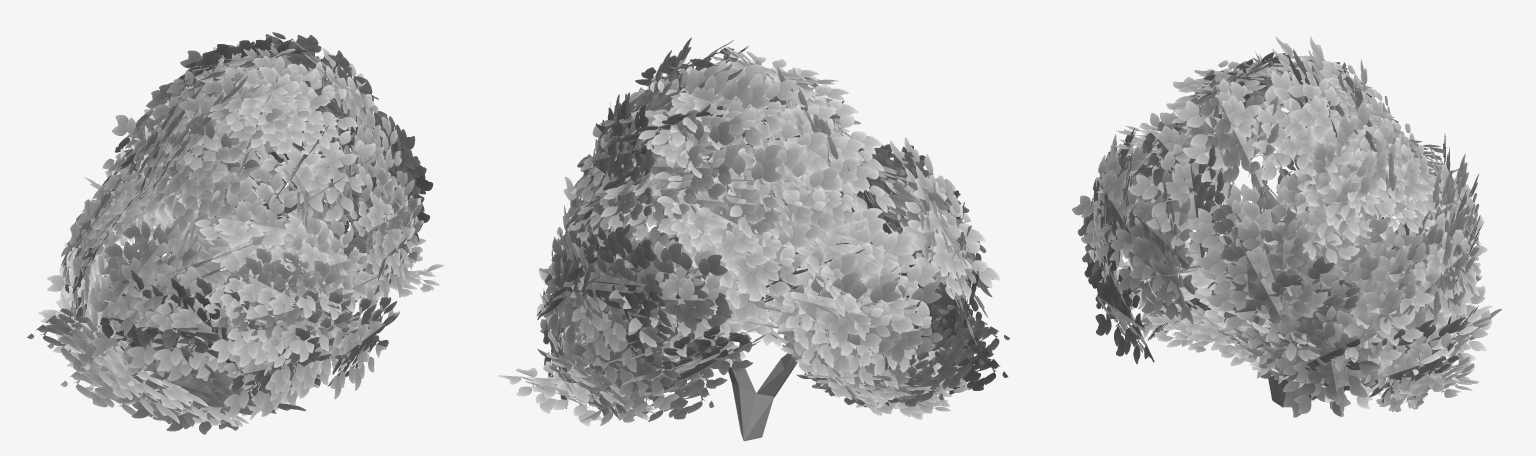
The model's file is Bush_01.fbx.
3 renders of one model, left to right at view 1: azimuth 30°, elevation 25°; view 2: azimuth 150°, elevation 25°; view 3: azimuth 270°, elevation 25°, orthographic. The views are drawn at different scales.
Parts seen in each view (by area): view 1: Bush_01_LOD0; view 2: Bush_01_LOD0; view 3: Bush_01_LOD0.
Boxes of the visible parts, bbox=[...] form: Bush_01_LOD0: bbox=[27, 32, 444, 434]; Bush_01_LOD0: bbox=[498, 37, 1009, 441]; Bush_01_LOD0: bbox=[1072, 36, 1501, 417].
Size of what is drawn, in the model's own units: 145 by 126 by 142.
